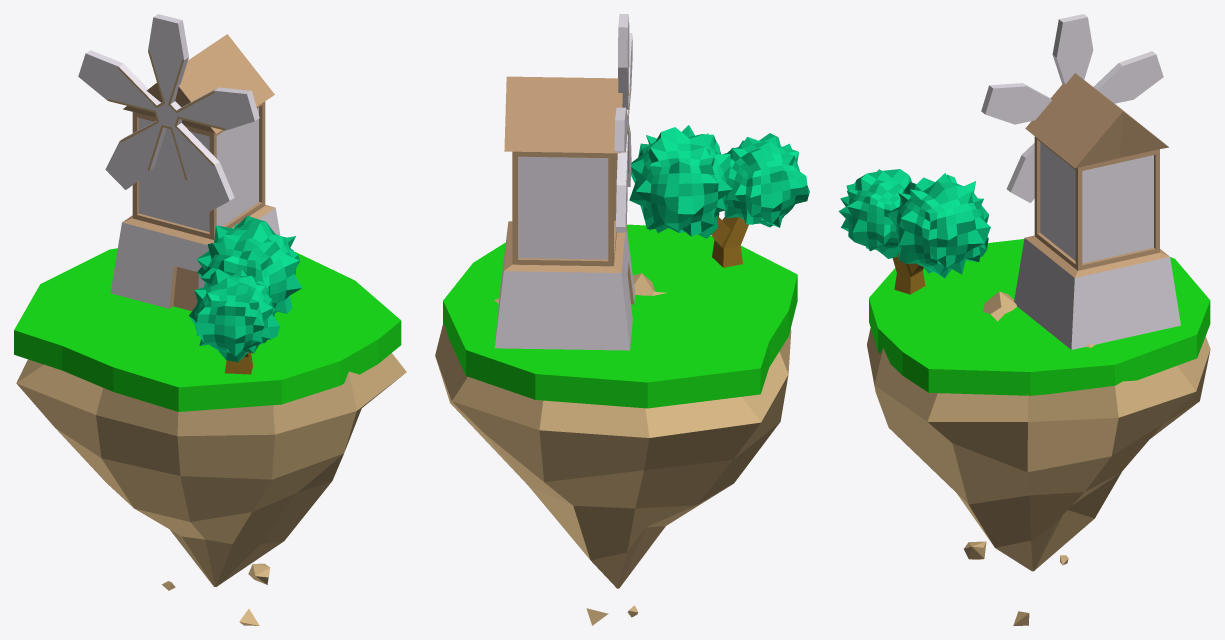
File: Low-Poly-Mill.glb
The picture shows the model from 3 angles, left to right: view 1: azimuth 30°, elevation 25°; view 2: azimuth 150°, elevation 25°; view 3: azimuth 270°, elevation 25°; orthographic projection. The views are drawn at different scales.
Parts seen in each view (by area): view 1: Island, Green_platform, Mill, propeller, Tree; view 2: Island, Green_platform, Mill, Tree, propeller; view 3: Island, Mill, Green_platform, Tree, propeller.
Part boxes in pixels (<box>): Island: <box>16,353,406,625</box>; Green_platform: <box>14,248,401,411</box>; Mill: <box>110,34,280,310</box>; propeller: <box>78,14,259,211</box>; Tree: <box>189,215,301,374</box>; Island: <box>435,273,791,625</box>; Green_platform: <box>443,224,797,408</box>; Mill: <box>495,76,634,350</box>; Tree: <box>629,125,809,267</box>; propeller: <box>614,14,632,232</box>; Island: <box>867,291,1210,625</box>; Mill: <box>1014,73,1180,349</box>; Green_platform: <box>869,239,1210,395</box>; Tree: <box>838,169,990,294</box>; propeller: <box>981,14,1163,202</box>.
Size of the model in its own units: 1.05 by 1.95 by 1.13.
